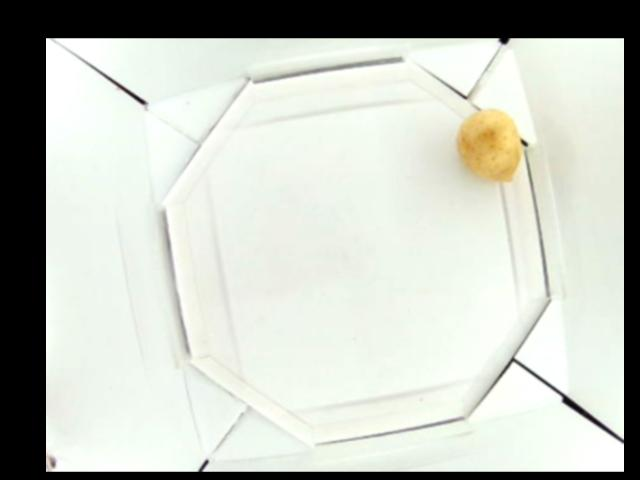Potato: (455, 108, 526, 180)
